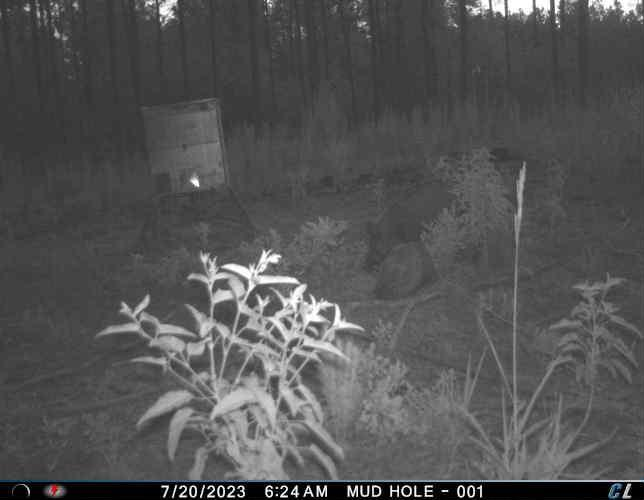Hog: (366, 177, 466, 262), (374, 240, 438, 302)
